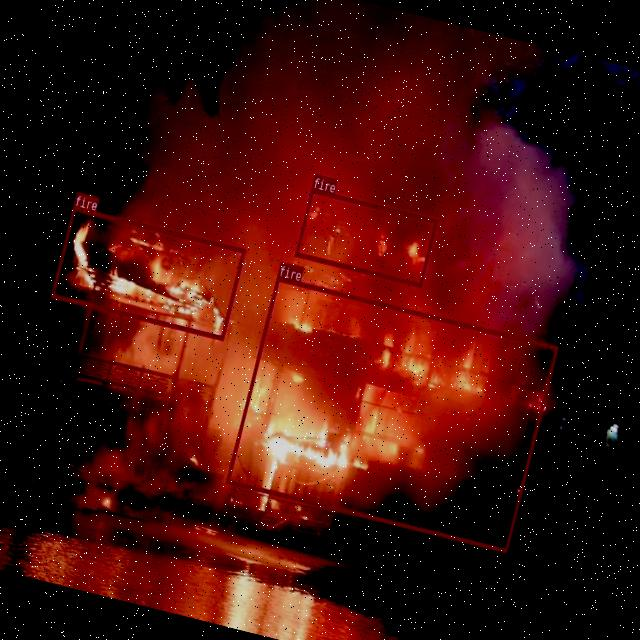fire: (225, 275, 558, 552), (49, 204, 244, 338), (294, 188, 437, 286)
